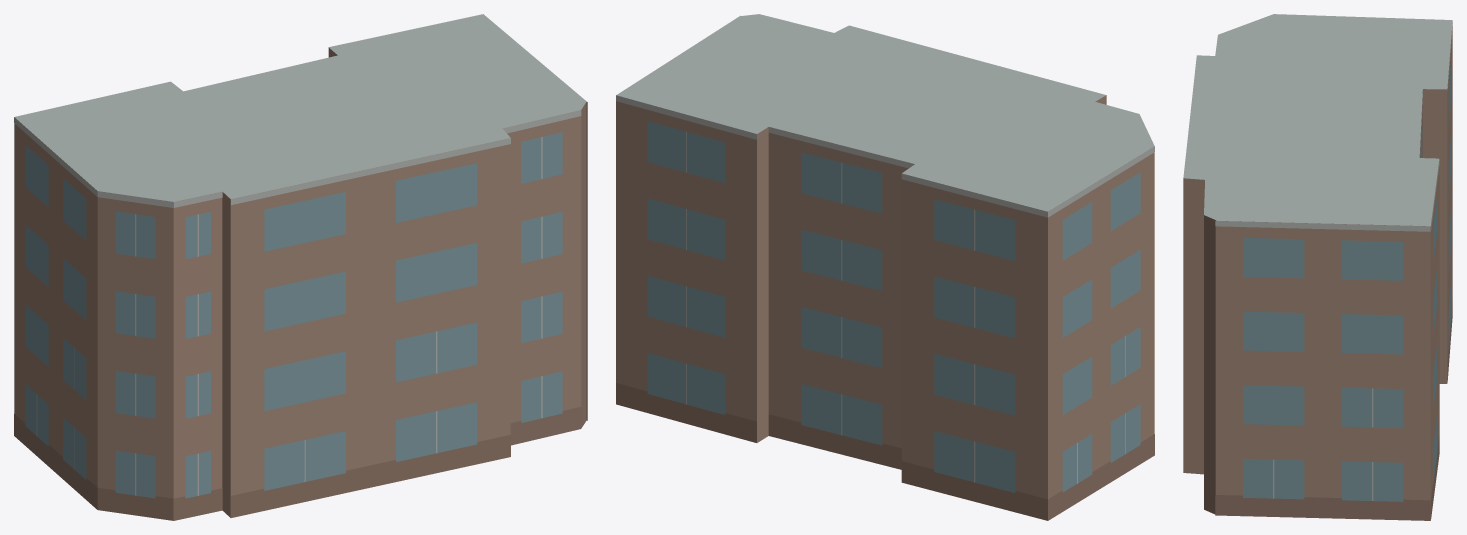
The model's file is survey-upis-32773267.glb.
The picture shows the model from 3 angles, left to right: view 1: azimuth 30°, elevation 25°; view 2: azimuth 150°, elevation 25°; view 3: azimuth 270°, elevation 25°; orthographic projection. The views are drawn at different scales.
Parts seen in each view (by area): view 1: survey-upis-32773267.tmp; view 2: survey-upis-32773267.tmp; view 3: survey-upis-32773267.tmp.
Part boxes in pixels (<box>): survey-upis-32773267.tmp: <box>14,14,587,520</box>; survey-upis-32773267.tmp: <box>616,14,1154,520</box>; survey-upis-32773267.tmp: <box>1183,14,1452,520</box>.
Size of the model in its own units: 19.92 by 12.89 by 10.69.
